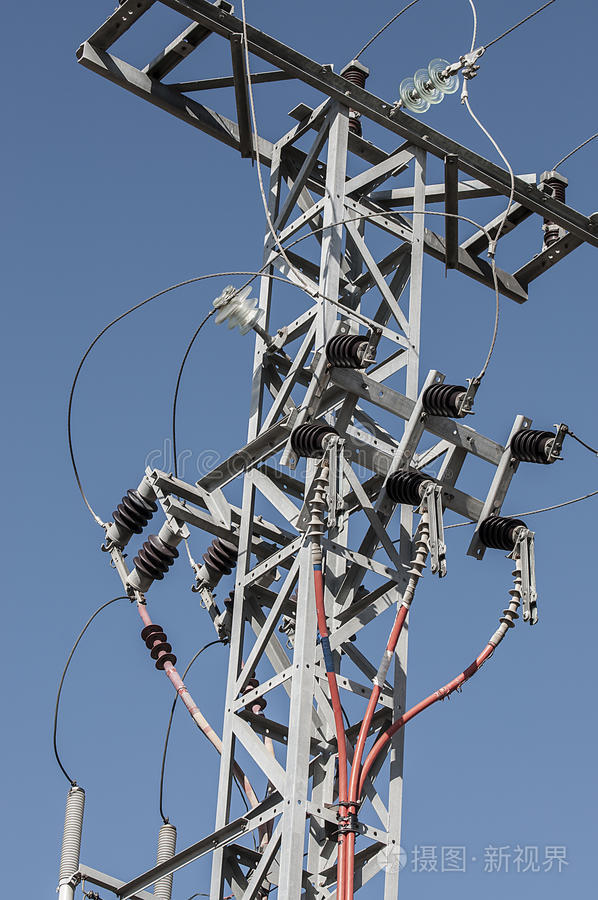insulator: (397, 54, 459, 110), (137, 621, 180, 674), (321, 328, 373, 370), (419, 379, 474, 417), (475, 512, 523, 555), (380, 468, 434, 505), (511, 428, 562, 467), (215, 288, 262, 330), (129, 537, 172, 581), (109, 488, 153, 528), (293, 420, 336, 458), (200, 536, 237, 578)
